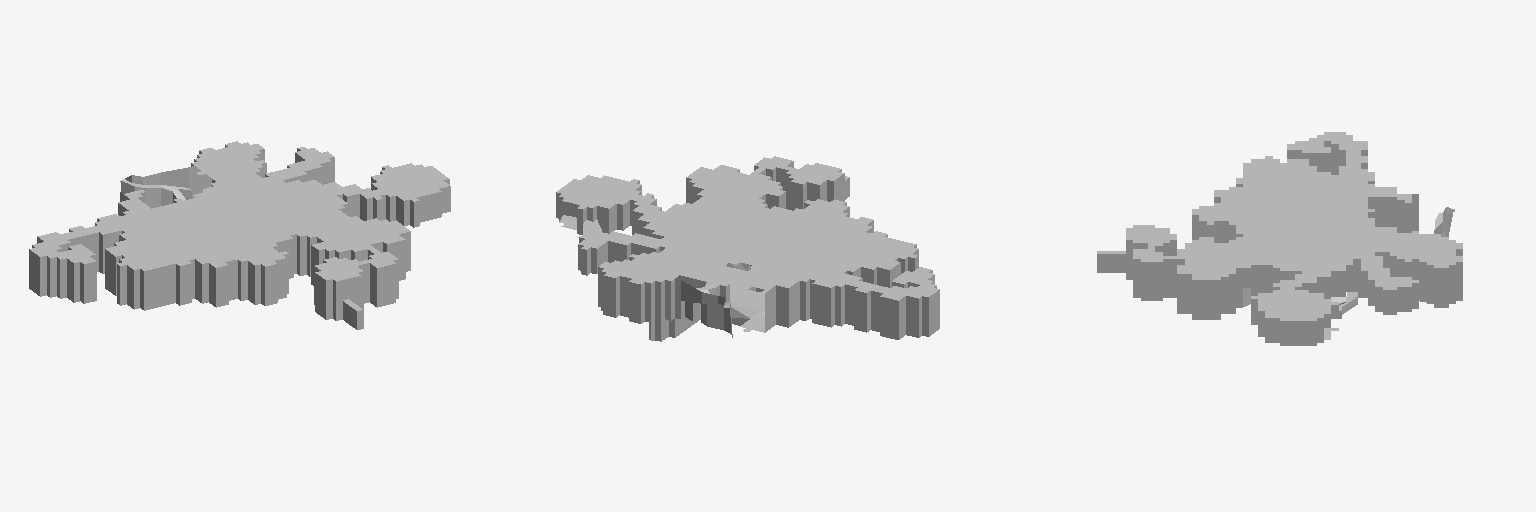
The model's file is 10.full.obj.
3 views of the same model, side by side, from view 1: azimuth 30°, elevation 25°; view 2: azimuth 150°, elevation 25°; view 3: azimuth 270°, elevation 25° (orthographic).
Bounding box in the file's own units: 286 × 42.18 × 234.